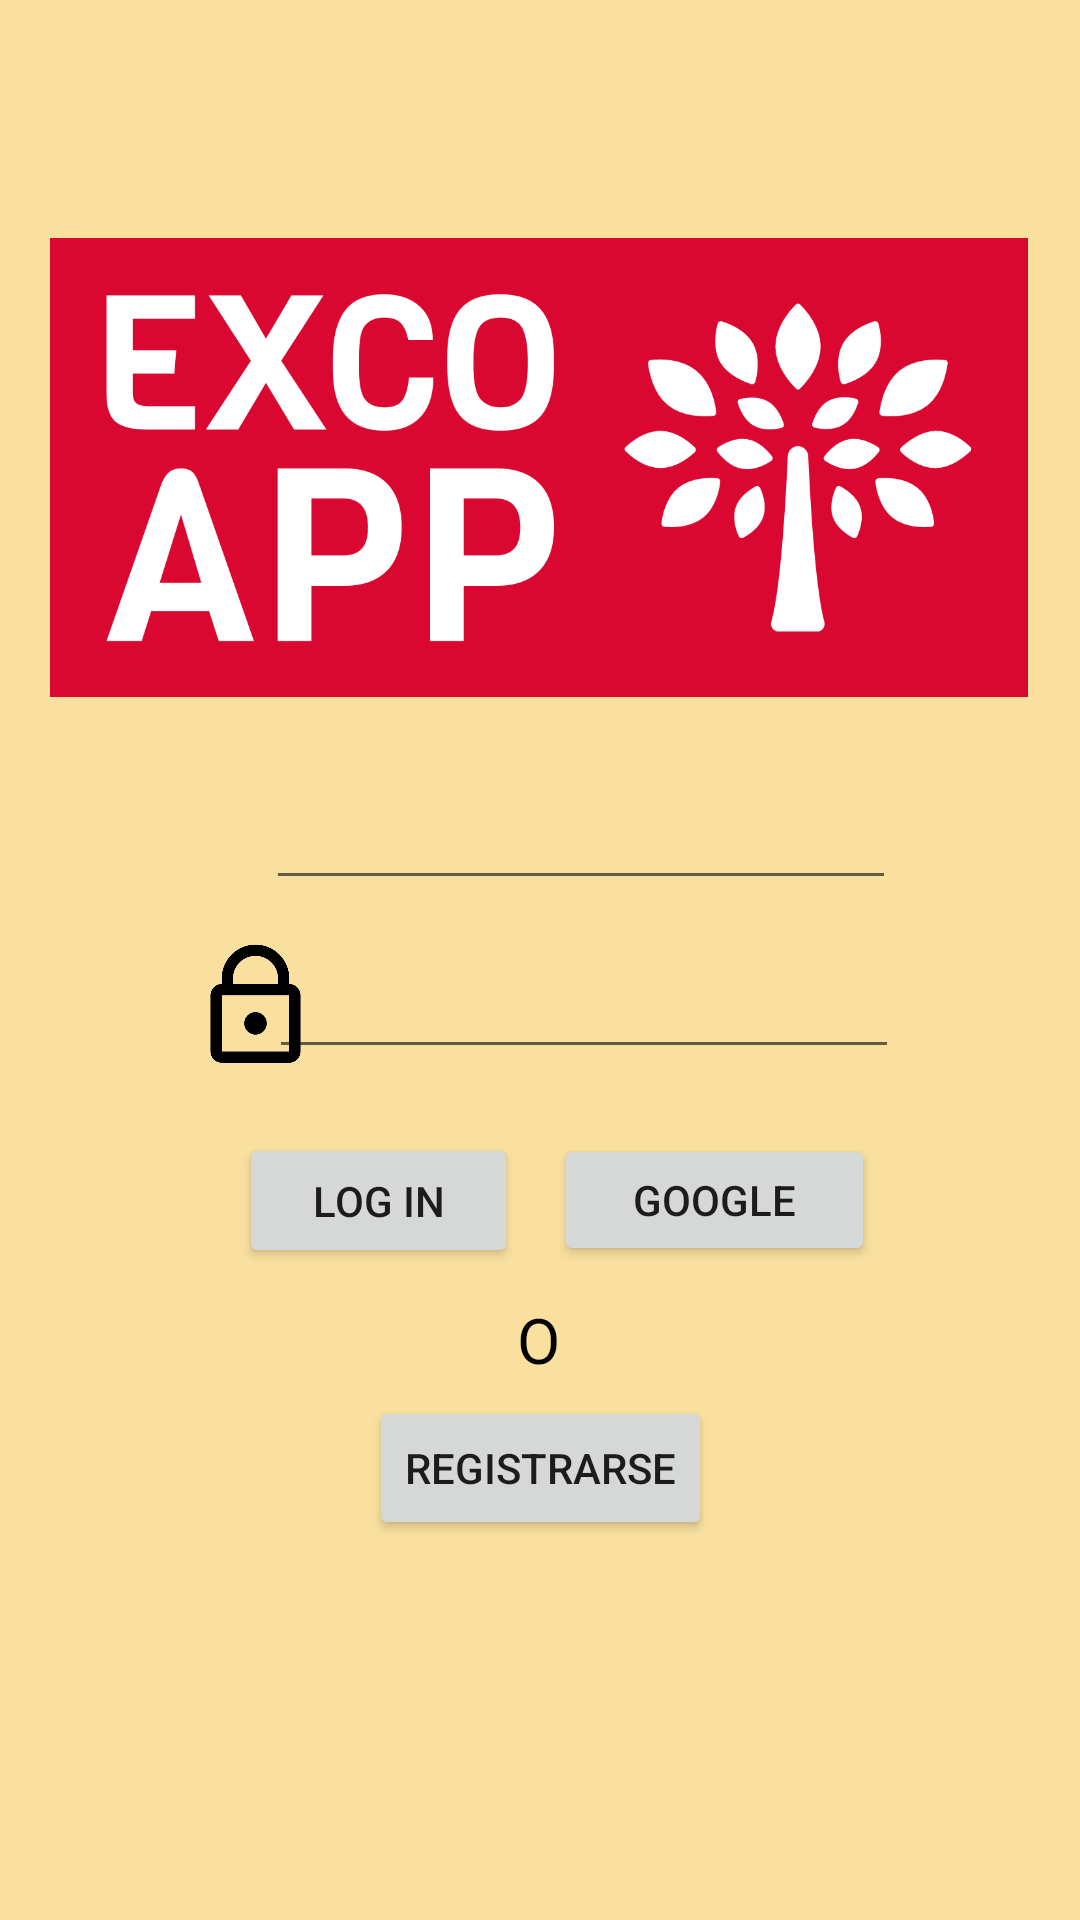

Icons on this 1080w x 1920h Android screen, each with the point to tap as (x=x, y=y):
candado: (x=269, y=1003)
